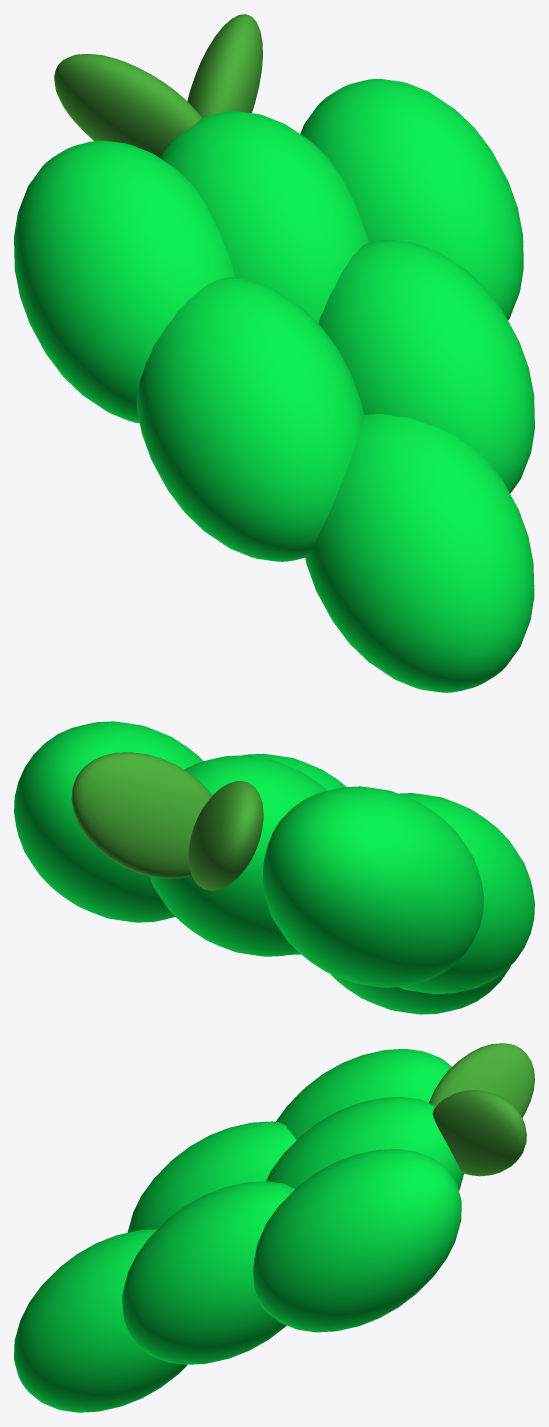
File: Muscat.FBX
3 views of the same model, one above another, from view 1: azimuth 30°, elevation 25°; view 2: azimuth 150°, elevation 25°; view 3: azimuth 270°, elevation 25° (orthographic). The views are drawn at different scales.
Visible parts, largest first — view 1: Sphere199, Sphere192, Sphere197, Sphere193, Sphere198, Sphere194, Sphere196, Sphere195; view 2: Sphere197, Sphere198, Sphere195, Sphere194, Sphere199, Sphere196, Sphere192, Sphere193; view 3: Sphere198, Sphere193, Sphere192, Sphere194, Sphere199, Sphere197, Sphere195, Sphere196.
Part boxes in pixels (x1,y1,x2,y2): Sphere199: (136,277,364,561); Sphere192: (305,414,534,692); Sphere197: (14,140,235,423); Sphere193: (318,239,534,493); Sphere198: (300,79,523,320); Sphere194: (160,111,368,323); Sphere196: (54,54,202,157); Sphere195: (187,14,262,117); Sphere197: (263,786,483,987); Sphere198: (14,721,203,922); Sphere195: (71,752,211,878); Sphere194: (149,755,327,956); Sphere199: (398,793,534,994); Sphere196: (188,781,263,890); Sphere192: (330,966,510,1014); Sphere193: (243,753,346,954); Sphere198: (253,1148,461,1332); Sphere193: (122,1181,294,1364); Sphere192: (14,1229,186,1412); Sphere194: (266,1096,463,1190); Sphere199: (127,1121,296,1232); Sphere197: (276,1048,451,1139); Sphere195: (432,1090,526,1176); Sphere196: (429,1043,534,1117).
Bounding box in the file's own units: 8.12 × 10.49 × 7.5.
8 materials, 8 textured.
